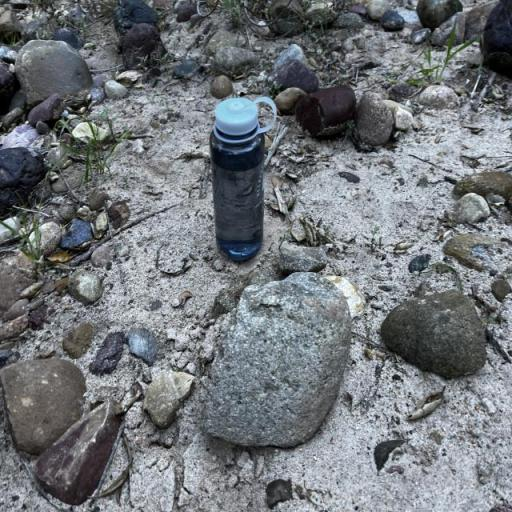bottle: (210, 96, 276, 262)
